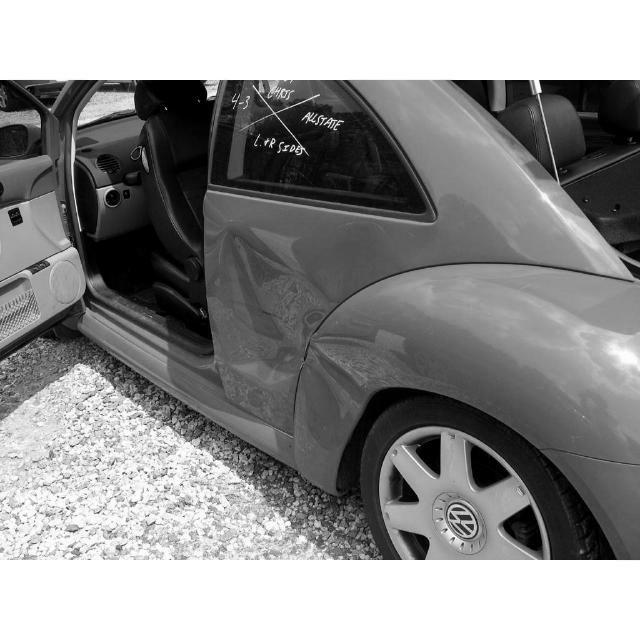quaterpanel-dent: (209, 203, 634, 424)
